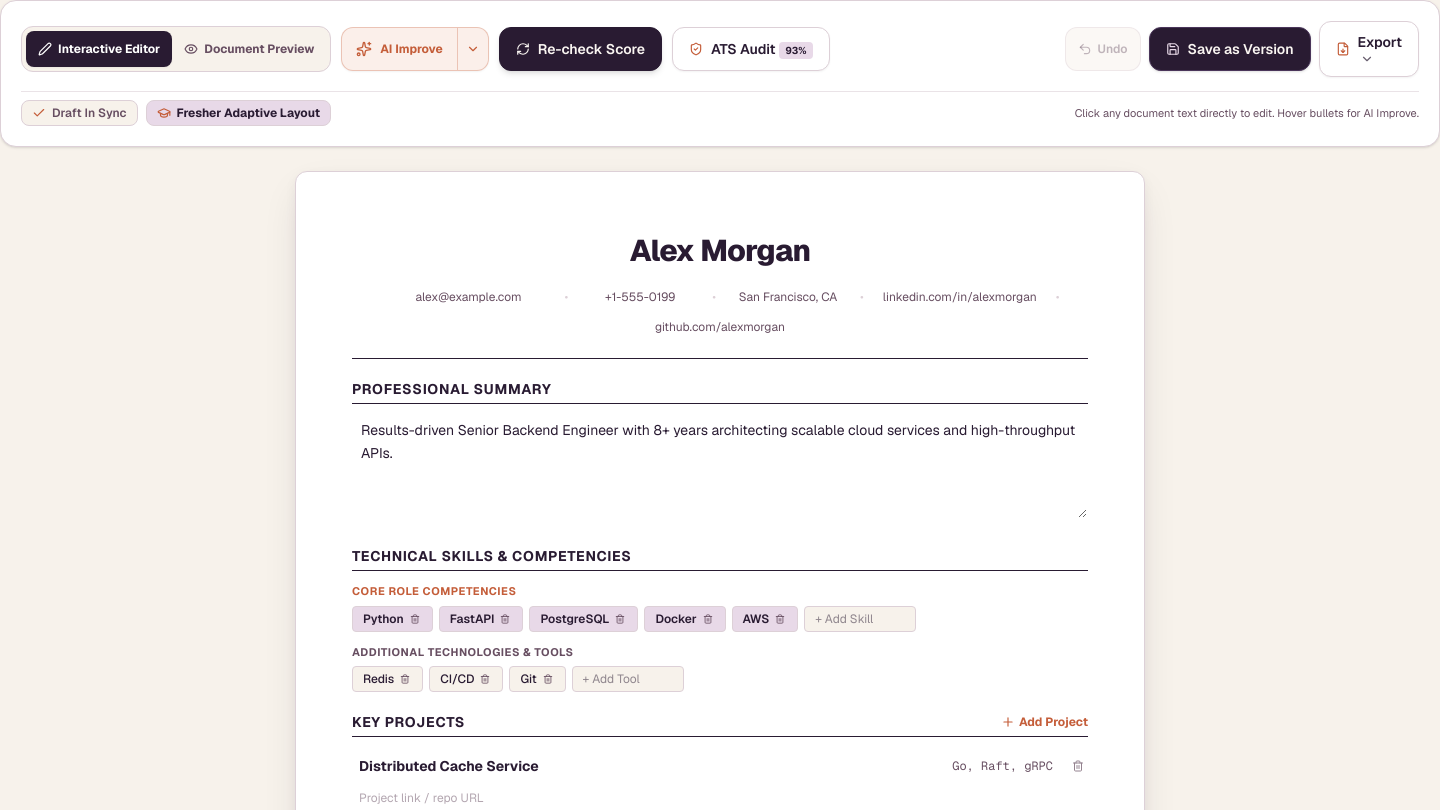
Phase 6.2 Professional ATS Resume Engine - Frontend Tests › adapts layout order for fresher candidates in Document Preview Canvas
# Switch from editor mode to Document Preview mode
Step 1. Click the button "Document Preview" → (249, 49), box [172,31,326,67]
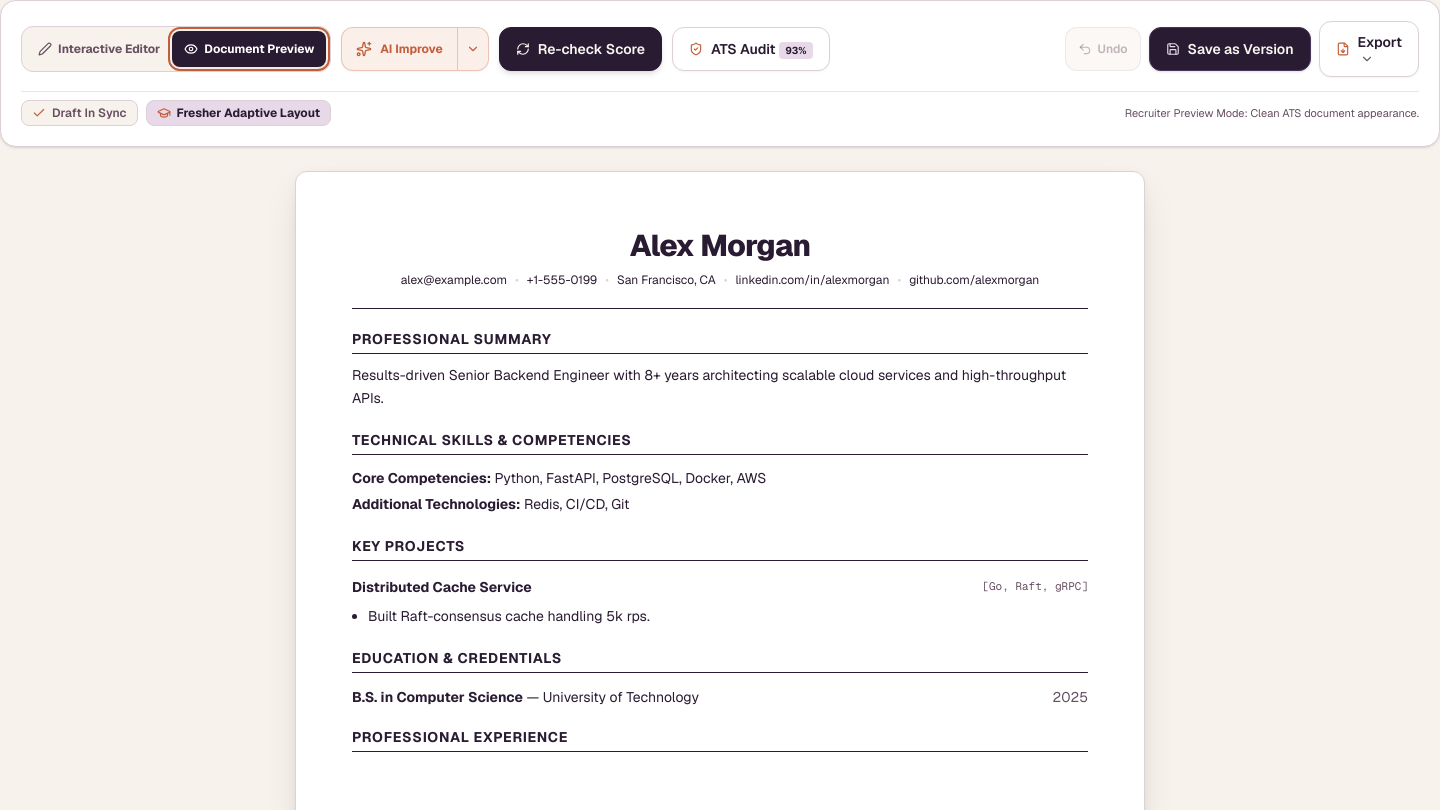
expect the text "Fresher Adaptive Layout" is shown: met, box [146,100,331,126]
expect the text "Distributed Cache Service" is shown: met, box [352,577,532,597]
expect the text "B.S. in Computer Science — University of Technology" is shown: met, box [352,687,699,707]
